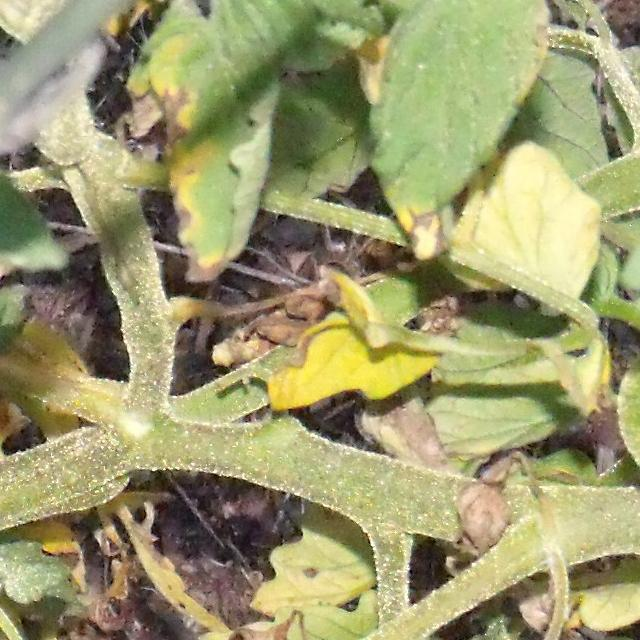Tomato leaf bacterial spot: (84, 0, 367, 298), (308, 0, 562, 275)
